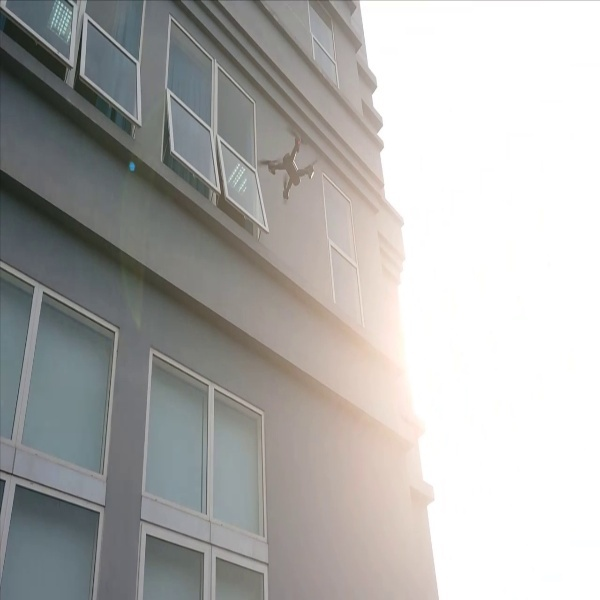drone: (251, 129, 324, 206)
